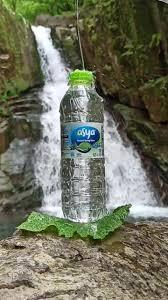bottle: (51, 62, 118, 238)
